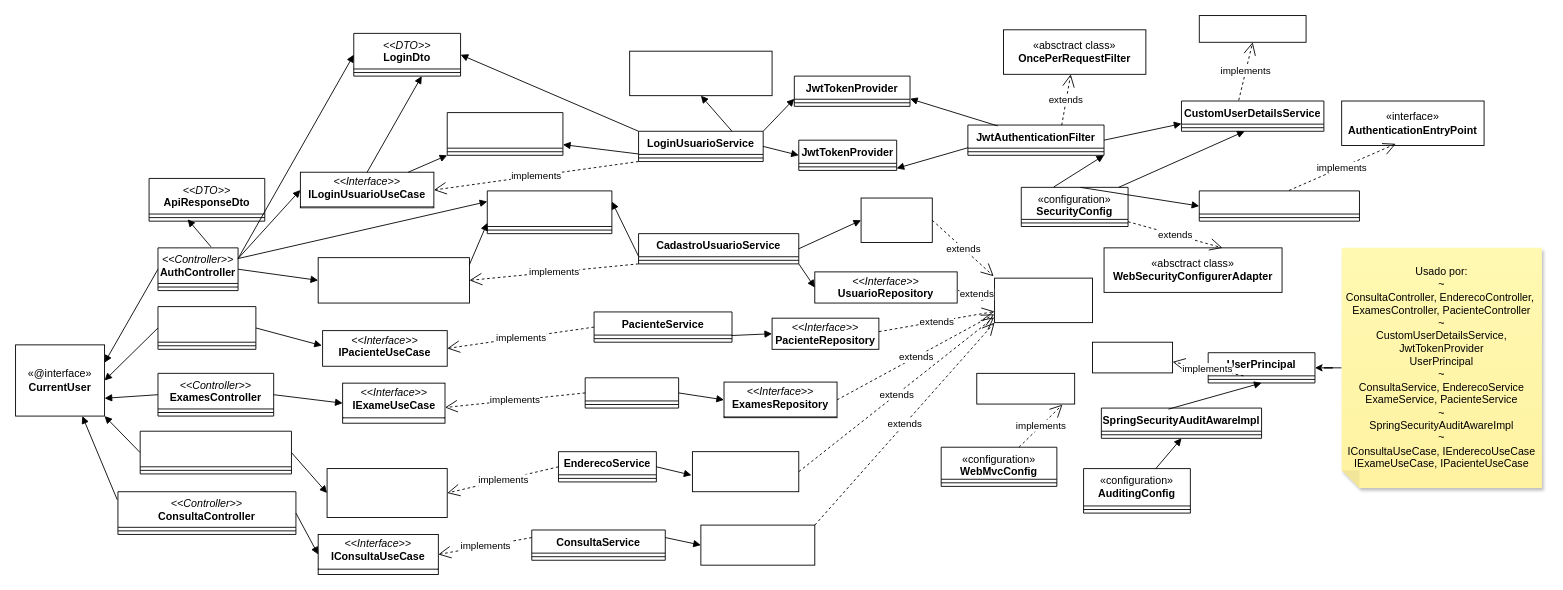
Some shapes in this 1563 by 590 pixel diagram are drawn without their labels. Each missing label, with the centre of its shape:
"<<Controller>> EnderecoController" goes at pixel 215 452.
"<<Controller>> PacienteController" goes at pixel 206 327.
"<<DTO>> JwtAuthenticationDto" goes at pixel 504 133.
"<<DTO>> SignUpDto" goes at pixel 549 212.
"<<Interface>> ConsultaRepository" goes at pixel 757 544.
"<<Interface>> EnderecoRepository" goes at pixel 745 471.
"<<Interface>> ICadastroUsuarioUseCase" goes at pixel 393 280.
"<<Interface>> IEnderecoUseCase" goes at pixel 386 493.
"<<Interface>> RoleRepository" goes at pixel 896 220.
"ExameService" goes at pixel 631 392.
"JwtAuthenticationEntryPoint" goes at pixel 1278 205.
"«interface» AuthenticationManager" goes at pixel 700 73.
"«interface» JpaRepository" goes at pixel 1043 300.
"«interface» UserDetails" goes at pixel 1132 357.
"«interface» UserDetailsService" goes at pixel 1252 28.
"«interface» WebMvcConfigurer" goes at pixel 1025 388.
